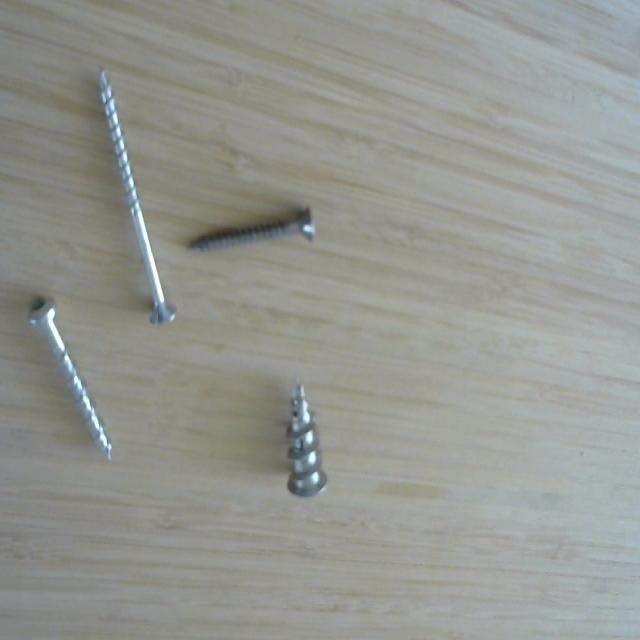Black screw: (185, 196, 319, 253)
Long screw: (90, 57, 188, 336)
Medium screw: (19, 284, 125, 470)
Short screw: (282, 366, 334, 504)
